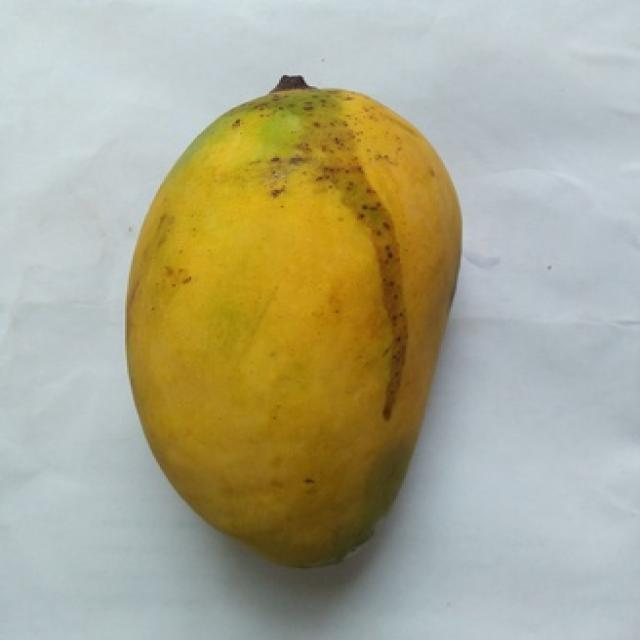Mango: (127, 88, 459, 563)
